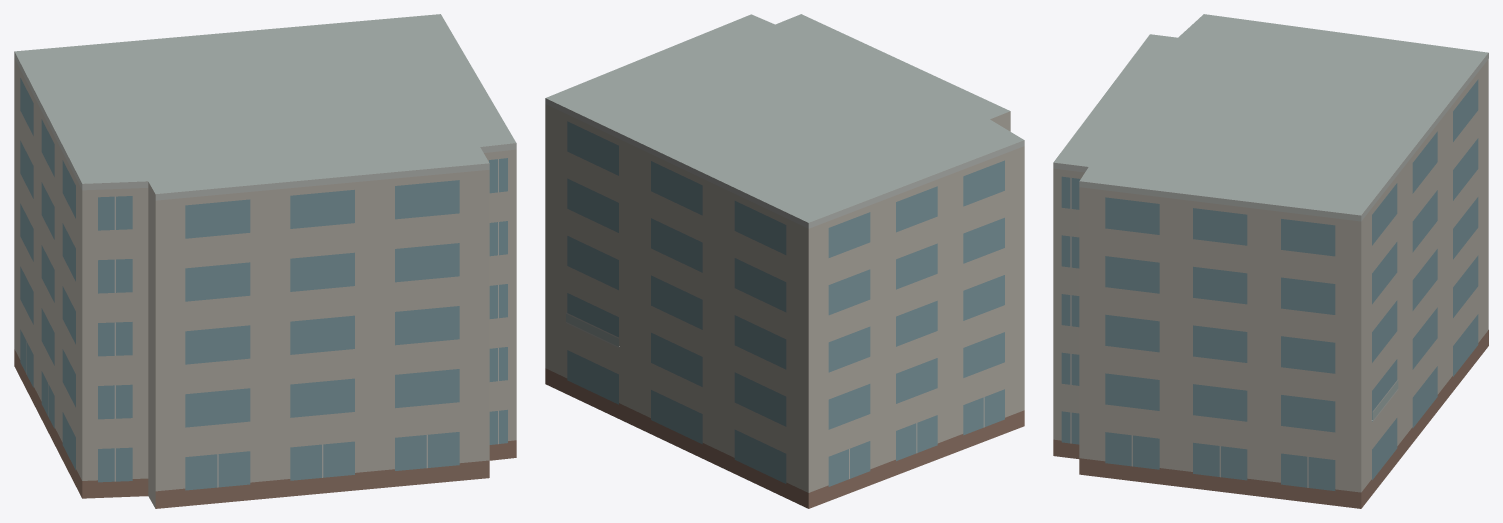
Rendered from survey-upis-32613513.glb.
3 views of the same model, side by side, from view 1: azimuth 30°, elevation 25°; view 2: azimuth 150°, elevation 25°; view 3: azimuth 270°, elevation 25° (orthographic). The views are drawn at different scales.
Visible parts, largest first — view 1: survey-upis-32613513.tmp; view 2: survey-upis-32613513.tmp; view 3: survey-upis-32613513.tmp.
Part boxes in pixels (x1,y1,x2,y2): survey-upis-32613513.tmp: [14, 14, 516, 508]; survey-upis-32613513.tmp: [545, 14, 1024, 508]; survey-upis-32613513.tmp: [1053, 14, 1488, 508].
Size of the model in its own units: 17.54 by 11.9 by 16.02.
